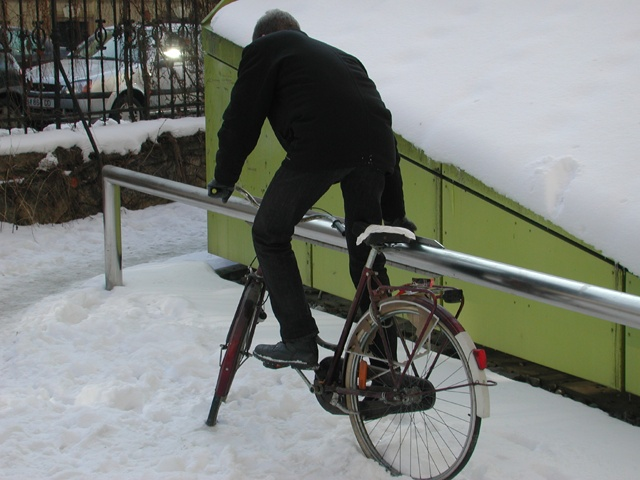person: (209, 9, 411, 417)
